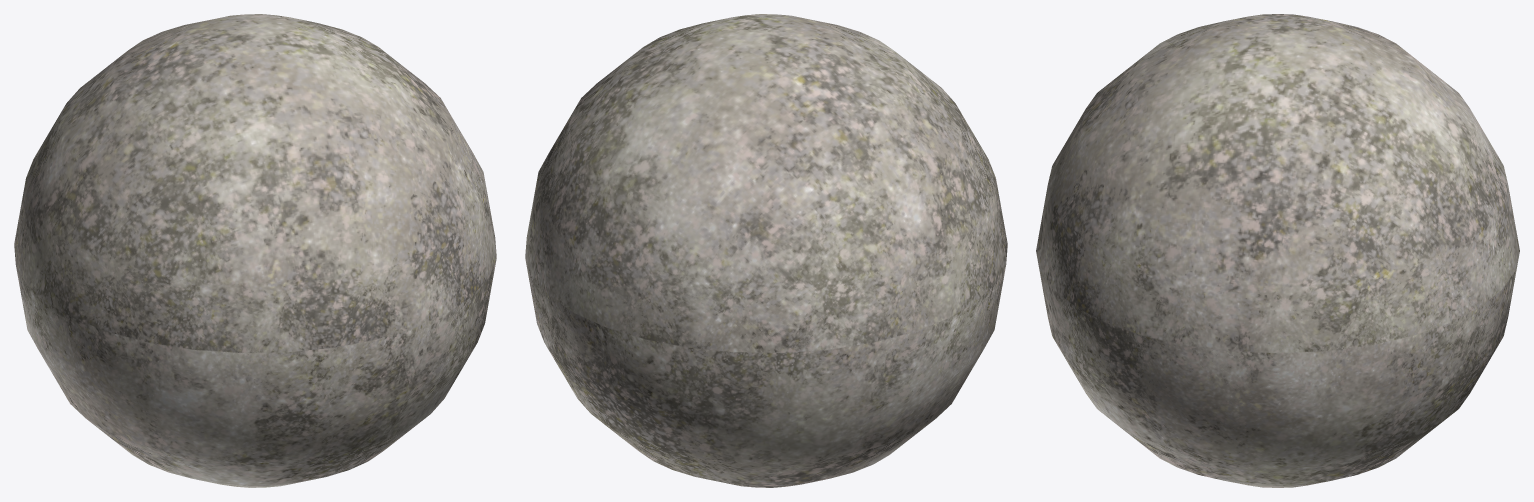
Rendered from honda.fbx.
The picture shows the model from 3 angles, left to right: view 1: azimuth 30°, elevation 25°; view 2: azimuth 150°, elevation 25°; view 3: azimuth 270°, elevation 25°; orthographic projection.
Parts seen in each view (by area): view 1: Sphere; view 2: Sphere; view 3: Sphere.
Part boxes in pixels (x1,y1,x2,y2): Sphere: (14,14,496,487); Sphere: (525,14,1007,487); Sphere: (1036,14,1519,487).
Bounding box in the file's own units: 1.7 × 1.67 × 1.7.
